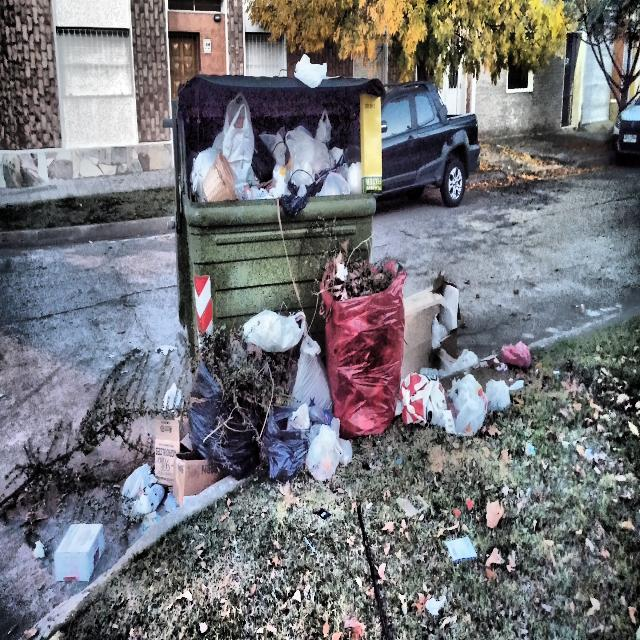garbage: (194, 83, 381, 224), (229, 284, 333, 487), (399, 285, 516, 444), (134, 426, 207, 525), (55, 514, 100, 576)
